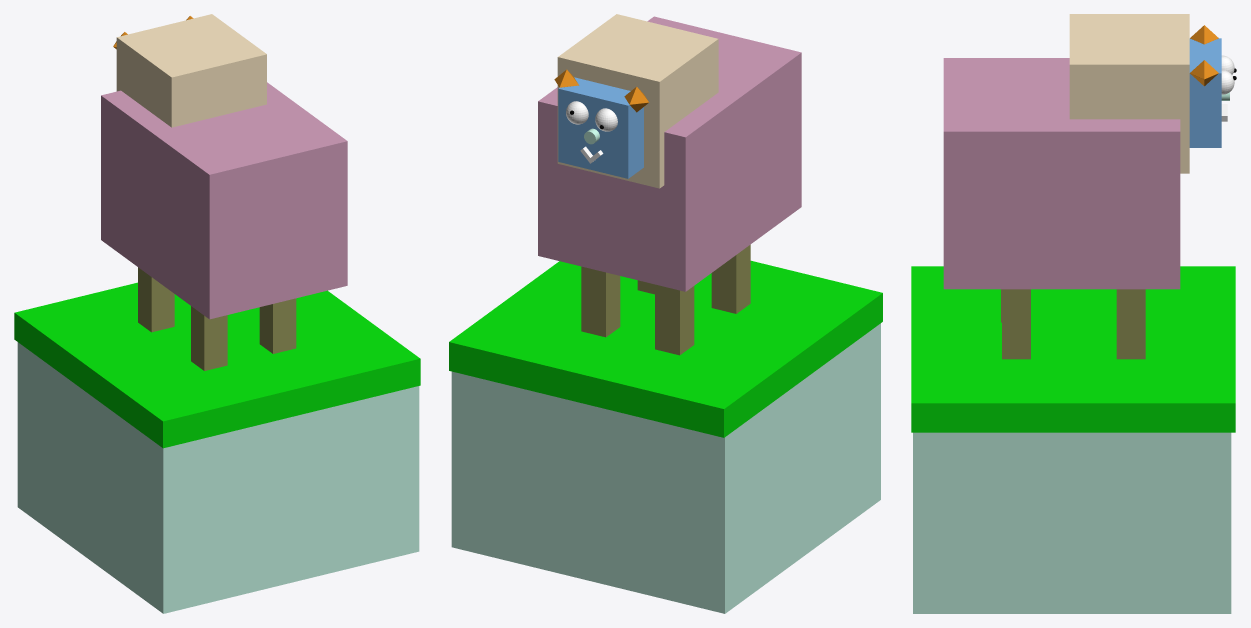
The model's file is sheep.glb.
3 views of the same model, side by side, from view 1: azimuth 30°, elevation 25°; view 2: azimuth 150°, elevation 25°; view 3: azimuth 270°, elevation 25° (orthographic). The views are drawn at different scales.
Bounding box in the file's own units: 11.2 × 19.3 × 11.24.
